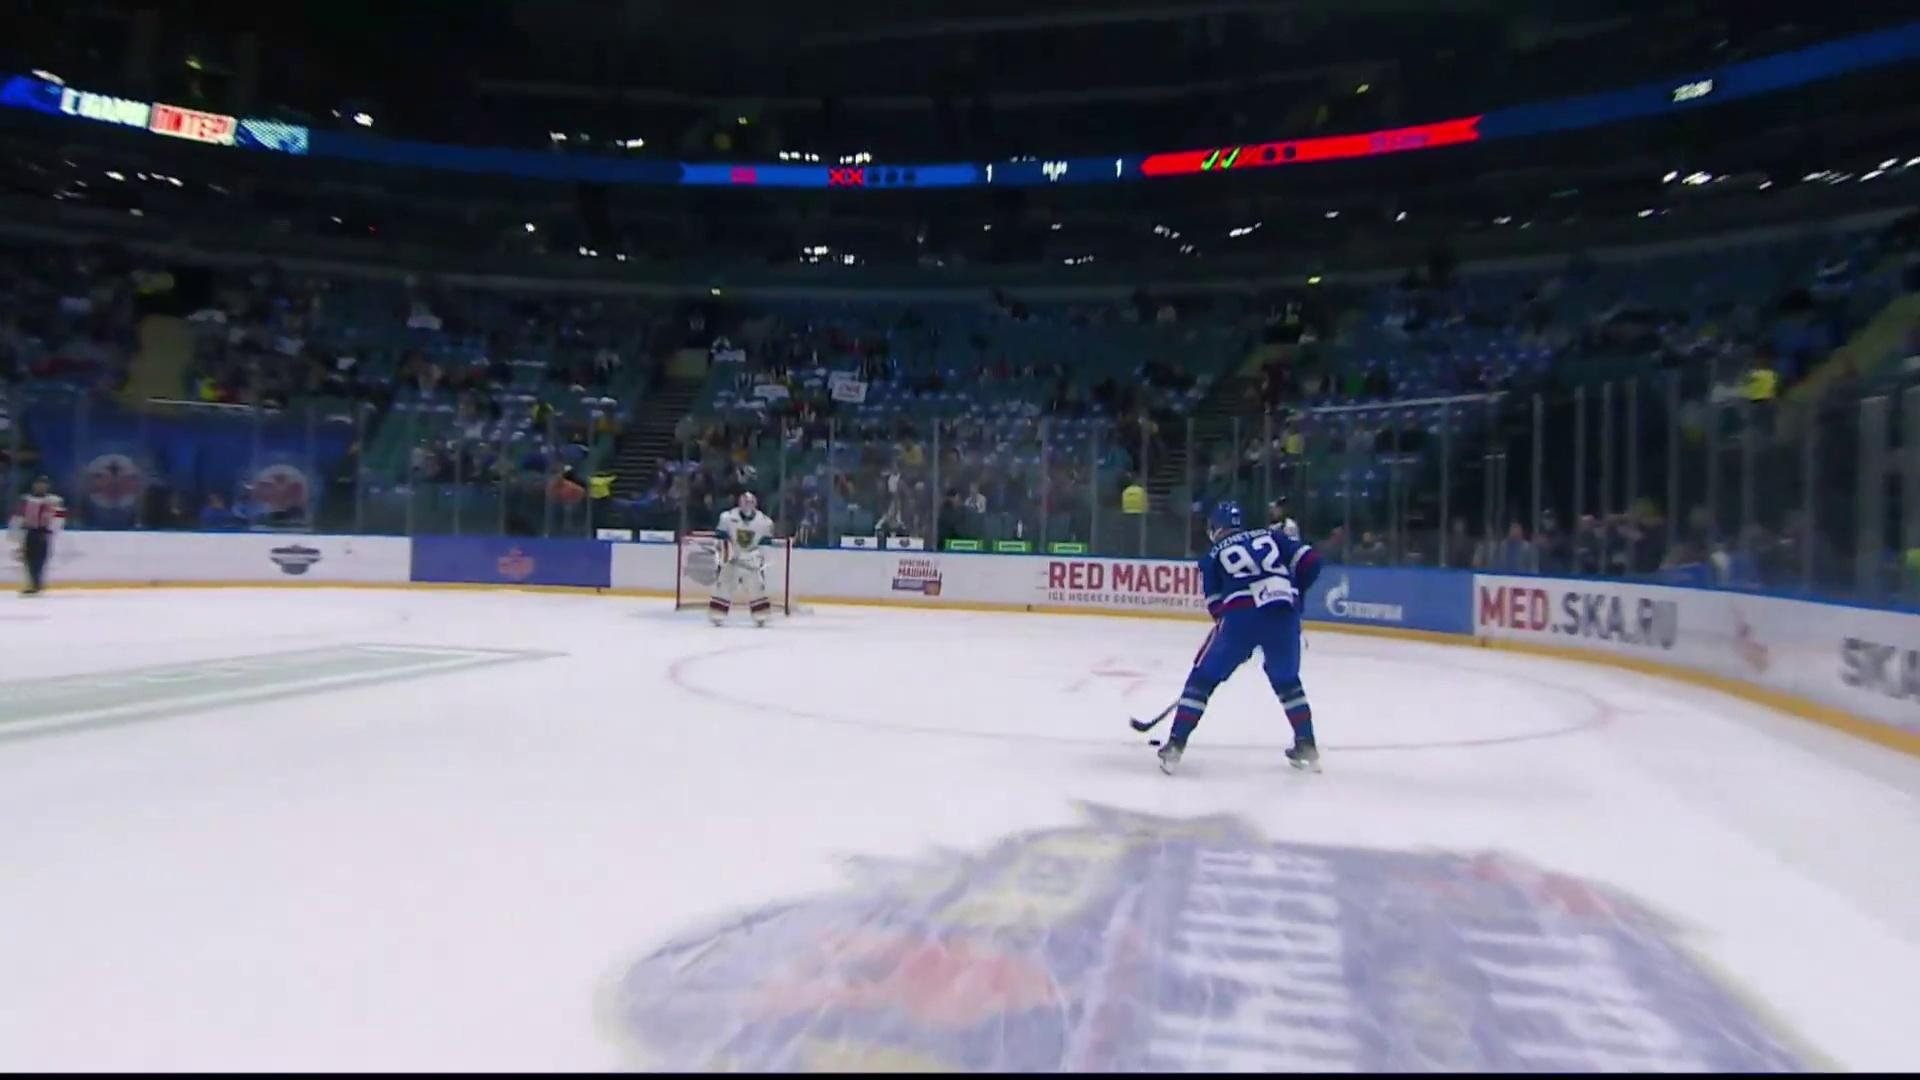ball: (1147, 740, 1162, 746)
